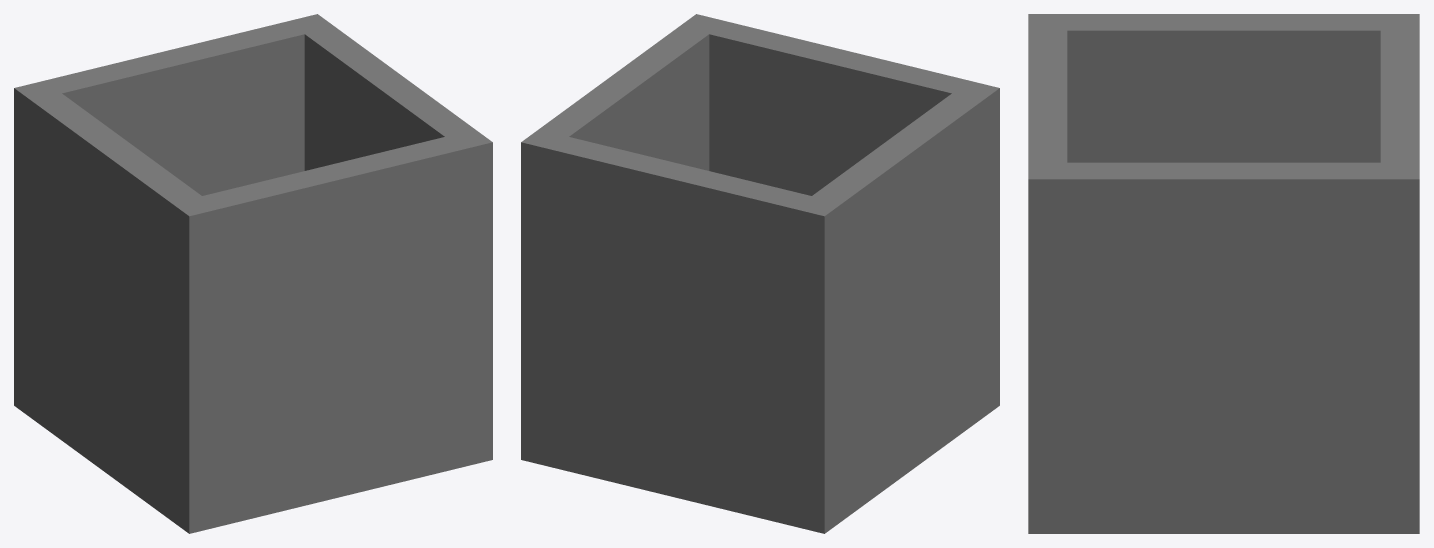
File: piv_01.fbx
3 renders of one model, left to right at view 1: azimuth 30°, elevation 25°; view 2: azimuth 150°, elevation 25°; view 3: azimuth 270°, elevation 25°, orthographic. The views are drawn at different scales.
Visible parts, largest first — view 1: Pitfall; view 2: Pitfall; view 3: Pitfall.
Part boxes in pixels (<box>): Pitfall: <box>14,14,492,533</box>; Pitfall: <box>521,14,999,533</box>; Pitfall: <box>1028,14,1419,533</box>.
Bounding box in the file's own units: 100 × 100 × 100.
